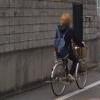bicycles: (51, 40, 89, 97)
